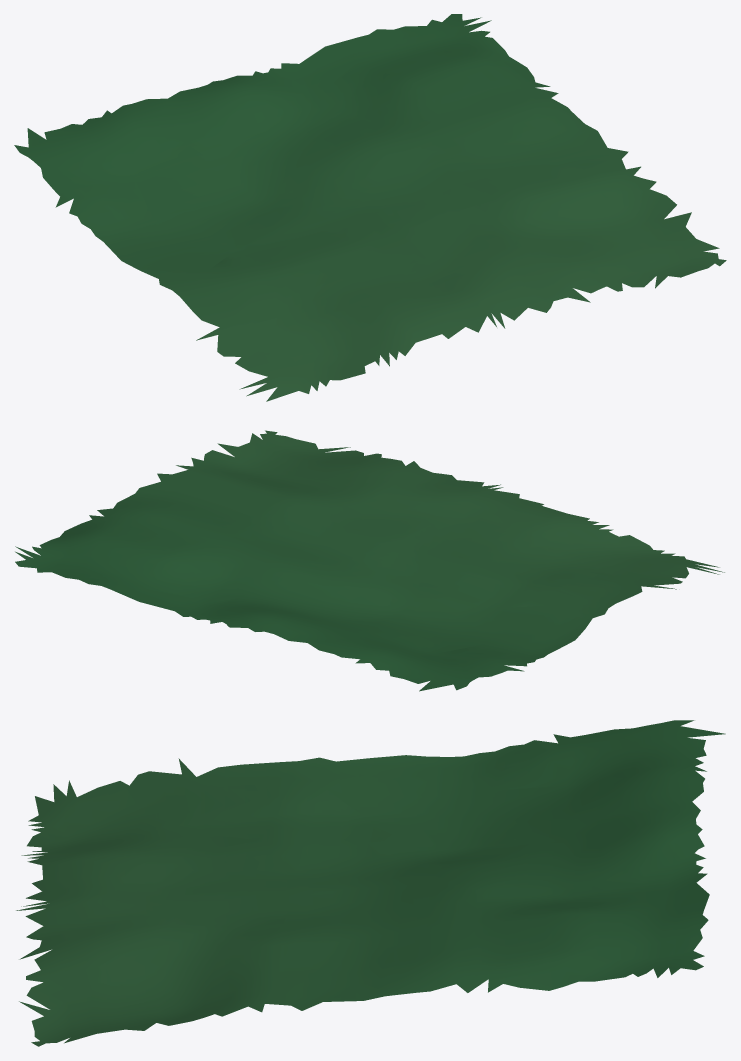
The model's file is payo_land_x1_y6.glb.
The picture shows the model from 3 angles, top to bottom: view 1: azimuth 30°, elevation 25°; view 2: azimuth 150°, elevation 25°; view 3: azimuth 270°, elevation 25°; orthographic projection. The views are drawn at different scales.
Parts seen in each view (by area): view 1: payo_land_x1_y6; view 2: payo_land_x1_y6; view 3: payo_land_x1_y6.
Part boxes in pixels (x1,y1,x2,y2): payo_land_x1_y6: (14, 14, 726, 401); payo_land_x1_y6: (15, 430, 724, 691); payo_land_x1_y6: (16, 720, 725, 1046).
Bounding box in the file's own units: 275 × 46.84 × 275.
